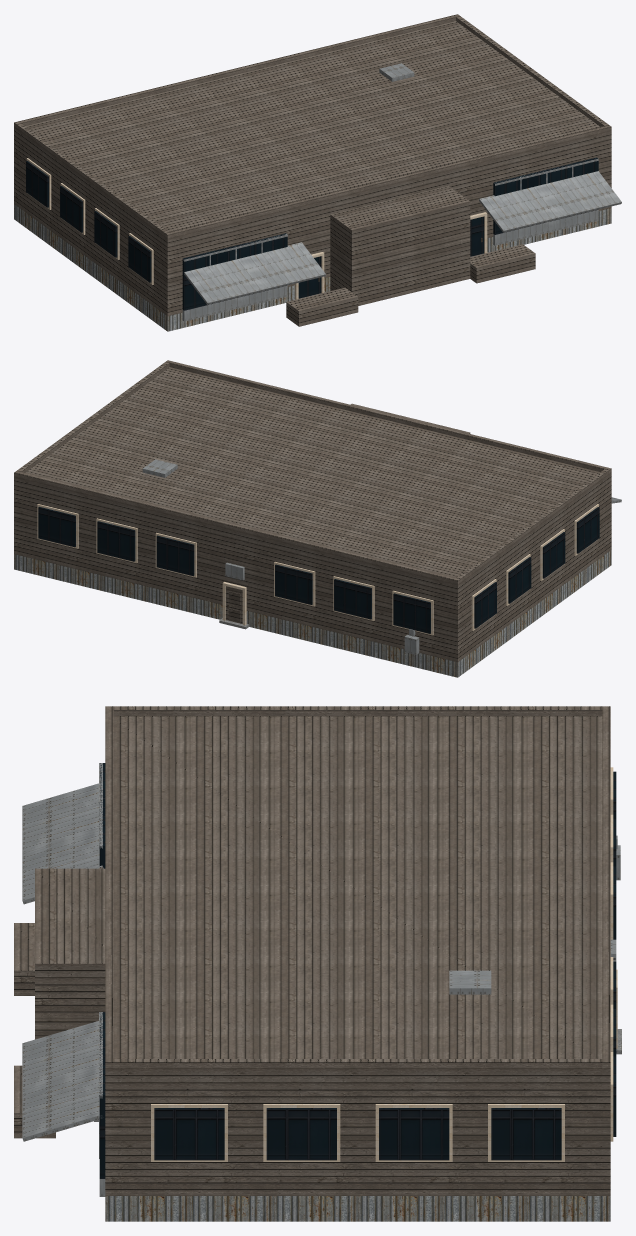
Rendered from green-thumb-garden-center_lod0.gltf.
The picture shows the model from 3 angles, top to bottom: view 1: azimuth 30°, elevation 25°; view 2: azimuth 150°, elevation 25°; view 3: azimuth 270°, elevation 25°; orthographic projection. The views are drawn at different scales.
Parts seen in each view (by area): view 1: green-thumb-garden-center_upper, green-thumb-garden-center__entry_pavilion, green-thumb-garden-center_fen_07-glass-curtain-blue_1_t, green-thumb-garden-center__shade_canopy_b, green-thumb-garden-center__shade_canopy_a, green-thumb-garden-center_base, green-thumb-garden-center_fen_14-steel-panel_0, green-thumb-garden-center__parapet_front, green-thumb-garden-center__parapet_back, green-thumb-garden-center__display_table_a, green-thumb-garden-center__display_table_b, green-thumb-garden-center_fen_04-limestone_2 (+3 smaller); view 2: green-thumb-garden-center_upper, green-thumb-garden-center_fen_07-glass-curtain-blue_1_t, green-thumb-garden-center_base, green-thumb-garden-center_fen_04-limestone_2, green-thumb-garden-center__parapet_back, green-thumb-garden-center__parapet_front, green-thumb-garden-center__parapet_left, green-thumb-garden-center__parapet_right, green-thumb-garden-center_fen_14-steel-panel_0, green-thumb-garden-center__vent; view 3: green-thumb-garden-center_upper, green-thumb-garden-center_fen_07-glass-curtain-blue_1_t, green-thumb-garden-center_base, green-thumb-garden-center__entry_pavilion, green-thumb-garden-center__shade_canopy_b, green-thumb-garden-center__shade_canopy_a, green-thumb-garden-center__parapet_left, green-thumb-garden-center_fen_04-limestone_2, green-thumb-garden-center__parapet_right, green-thumb-garden-center__parapet_front, green-thumb-garden-center__parapet_back, green-thumb-garden-center__display_table_a (+3 smaller).
Part boxes in pixels (<box>): green-thumb-garden-center_upper: <box>14,21,611,315</box>; green-thumb-garden-center__entry_pavilion: <box>330,186,470,305</box>; green-thumb-garden-center_fen_07-glass-curtain-blue_1_t: <box>26,157,598,310</box>; green-thumb-garden-center__shade_canopy_b: <box>479,171,621,232</box>; green-thumb-garden-center__shade_canopy_a: <box>184,242,325,304</box>; green-thumb-garden-center_base: <box>14,204,611,331</box>; green-thumb-garden-center_fen_14-steel-panel_0: <box>182,158,598,321</box>; green-thumb-garden-center__parapet_front: <box>165,125,611,238</box>; green-thumb-garden-center__parapet_back: <box>14,14,459,127</box>; green-thumb-garden-center__display_table_a: <box>286,287,358,326</box>; green-thumb-garden-center__display_table_b: <box>470,244,535,283</box>; green-thumb-garden-center_fen_04-limestone_2: <box>26,158,487,299</box>; green-thumb-garden-center_upper: <box>14,367,611,662</box>; green-thumb-garden-center_fen_07-glass-curtain-blue_1_t: <box>38,507,599,633</box>; green-thumb-garden-center_base: <box>14,550,611,677</box>; green-thumb-garden-center_fen_04-limestone_2: <box>37,504,598,635</box>; green-thumb-garden-center__parapet_back: <box>14,471,460,584</box>; green-thumb-garden-center__parapet_front: <box>166,360,611,473</box>; green-thumb-garden-center__parapet_left: <box>456,469,608,582</box>; green-thumb-garden-center__parapet_right: <box>17,362,169,472</box>; green-thumb-garden-center_fen_14-steel-panel_0: <box>225,562,419,654</box>; green-thumb-garden-center__vent: <box>142,459,177,477</box>; green-thumb-garden-center_upper: <box>105,716,610,1195</box>; green-thumb-garden-center_fen_07-glass-curtain-blue_1_t: <box>99,763,616,1178</box>; green-thumb-garden-center_base: <box>105,1196,610,1221</box>; green-thumb-garden-center__entry_pavilion: <box>35,868,105,1039</box>; green-thumb-garden-center__shade_canopy_b: <box>22,1021,101,1141</box>; green-thumb-garden-center__shade_canopy_a: <box>22,783,103,904</box>; green-thumb-garden-center__parapet_left: <box>113,706,602,716</box>; green-thumb-garden-center_fen_04-limestone_2: <box>151,767,617,1161</box>; green-thumb-garden-center__parapet_right: <box>113,1059,602,1068</box>; green-thumb-garden-center__parapet_front: <box>105,706,113,1068</box>; green-thumb-garden-center__parapet_back: <box>602,706,610,1068</box>; green-thumb-garden-center__display_table_a: <box>14,923,34,995</box>.
Bounding box in the file's own units: 30.4 × 6.25 × 21.65.
